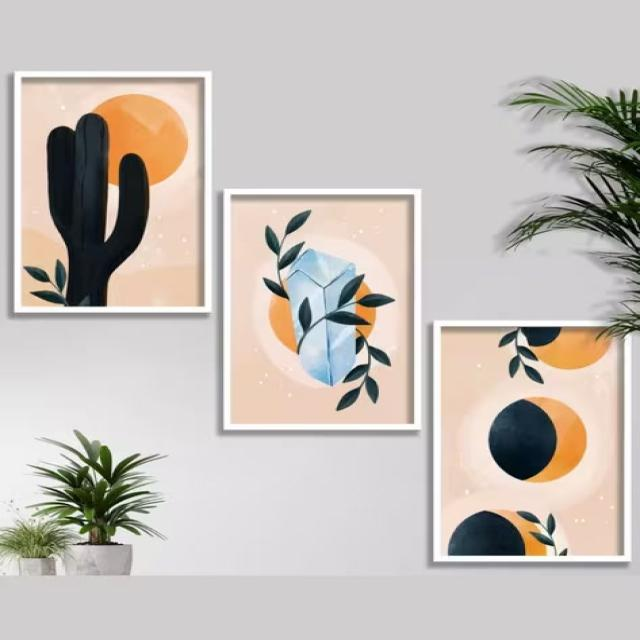painting: (11, 69, 212, 314), (221, 191, 422, 435), (428, 321, 629, 565)
